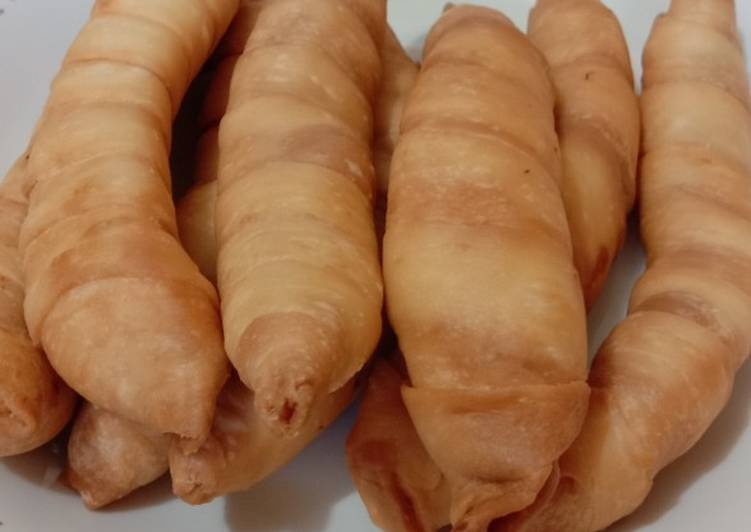pisang_molen: (379, 3, 592, 531), (212, 3, 388, 437)
